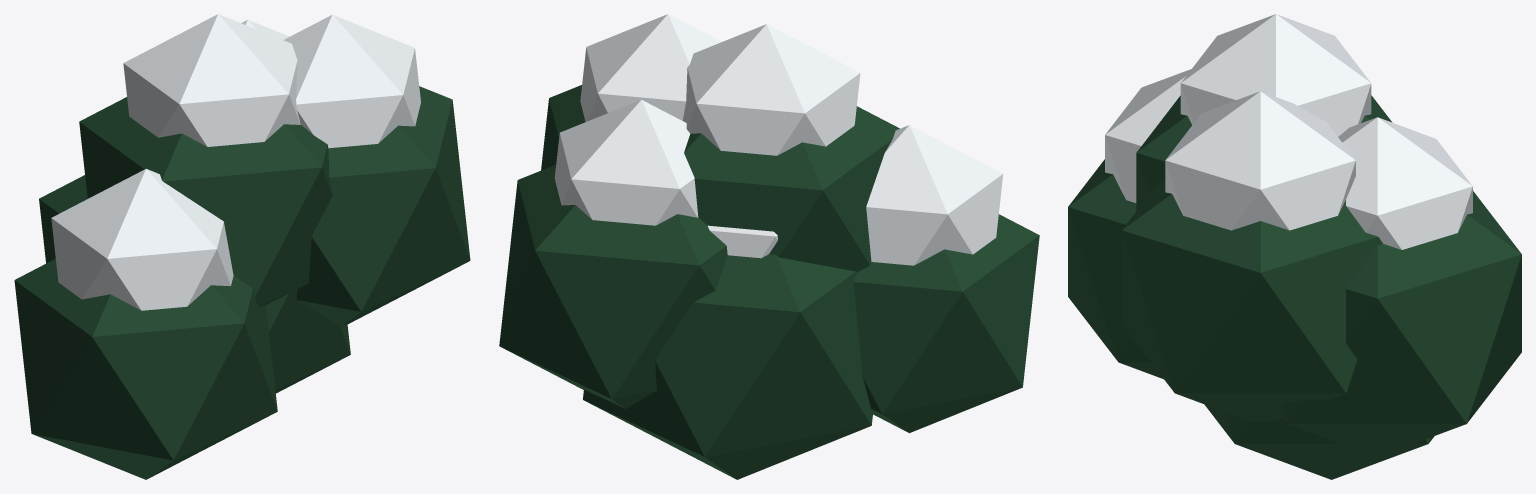
File: buisson_toundra_1.glb
The picture shows the model from 3 angles, left to right: view 1: azimuth 30°, elevation 25°; view 2: azimuth 150°, elevation 25°; view 3: azimuth 270°, elevation 25°; orthographic projection. The views are drawn at different scales.
Visible parts, largest first — view 1: arbuste_pin_sombre.002, arbuste_neige.002; view 2: arbuste_pin_sombre.002, arbuste_neige.002; view 3: arbuste_pin_sombre.002, arbuste_neige.002.
Boxes of the visible parts, box(x1,y1,x2,y2) form: arbuste_pin_sombre.002: box(14, 86, 470, 479); arbuste_neige.002: box(51, 14, 420, 310); arbuste_pin_sombre.002: box(499, 85, 1039, 479); arbuste_neige.002: box(554, 14, 1003, 265); arbuste_pin_sombre.002: box(1068, 95, 1521, 479); arbuste_neige.002: box(1105, 14, 1472, 249).
Bounding box in the file's own units: 0.5847 × 0.5487 × 0.4862.
